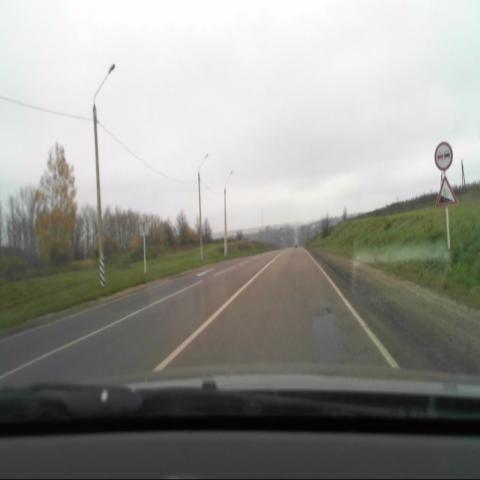1_13: (434, 175, 458, 209)
